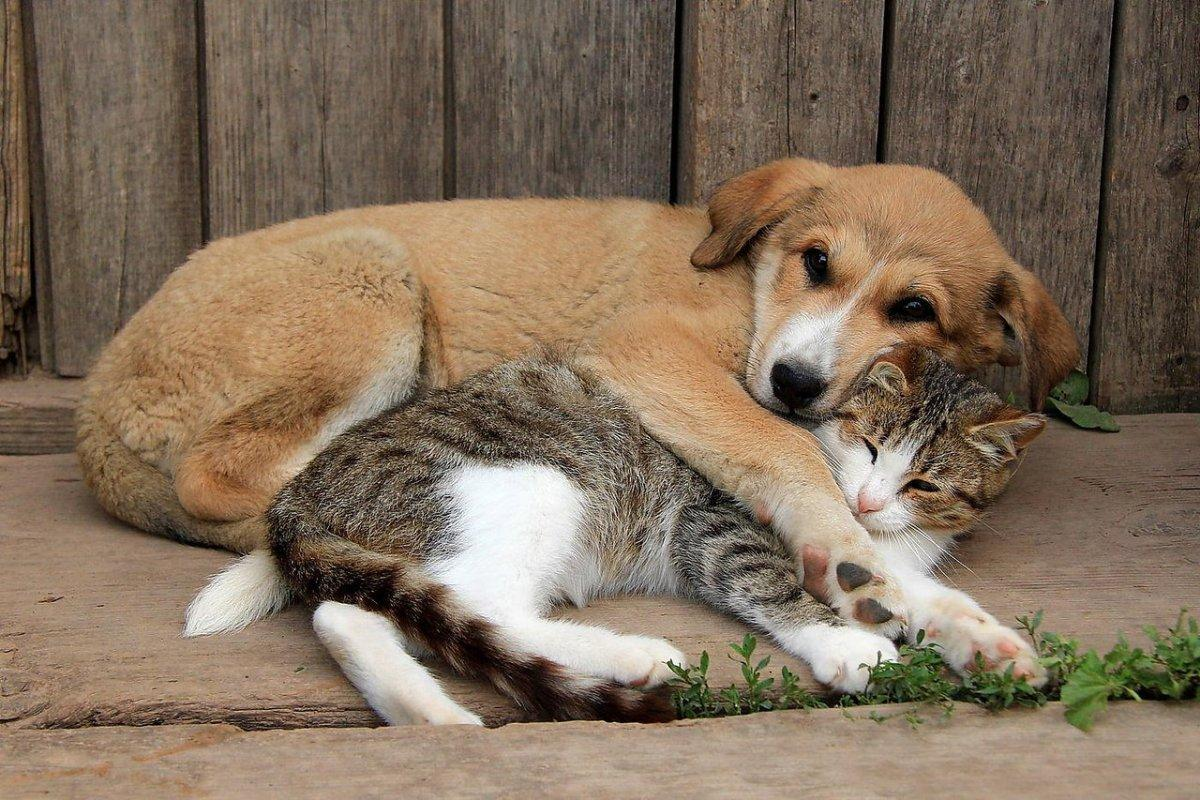animals: (76, 130, 1080, 451), (300, 348, 1076, 714)
